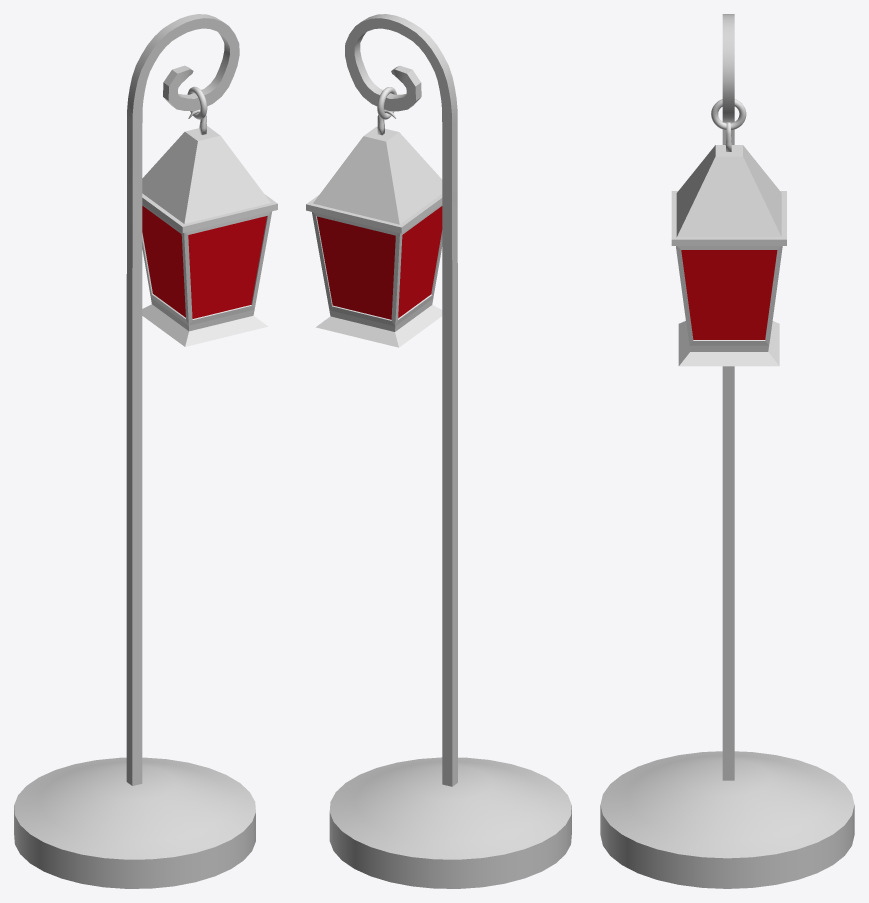
The model's file is Lantern Variant.fbx.
The picture shows the model from 3 angles, left to right: view 1: azimuth 30°, elevation 25°; view 2: azimuth 150°, elevation 25°; view 3: azimuth 270°, elevation 25°; orthographic projection. The views are drawn at different scales.
Visible parts, largest first — view 1: Cylinder.033, Sign.005; view 2: Cylinder.033, Sign.005; view 3: Cylinder.033, Sign.005.
Part boxes in pixels (bbox=[...]): Cylinder.033: bbox=[14, 14, 255, 888]; Sign.005: bbox=[142, 86, 277, 346]; Cylinder.033: bbox=[329, 14, 571, 888]; Sign.005: bbox=[306, 87, 442, 347]; Cylinder.033: bbox=[600, 14, 854, 888]; Sign.005: bbox=[671, 99, 786, 366].
Bounding box in the file's own units: 113 × 395 × 108.
